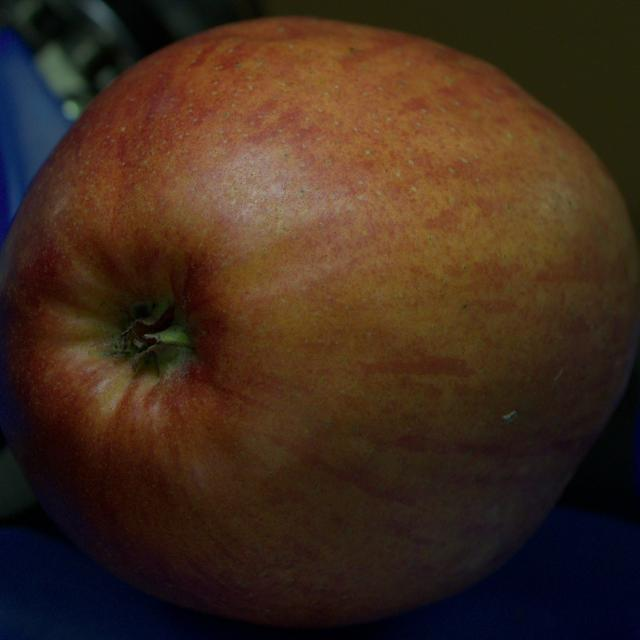apple: (0, 18, 639, 626)
bruise: (218, 22, 350, 44)
pest: (502, 411, 518, 424)
